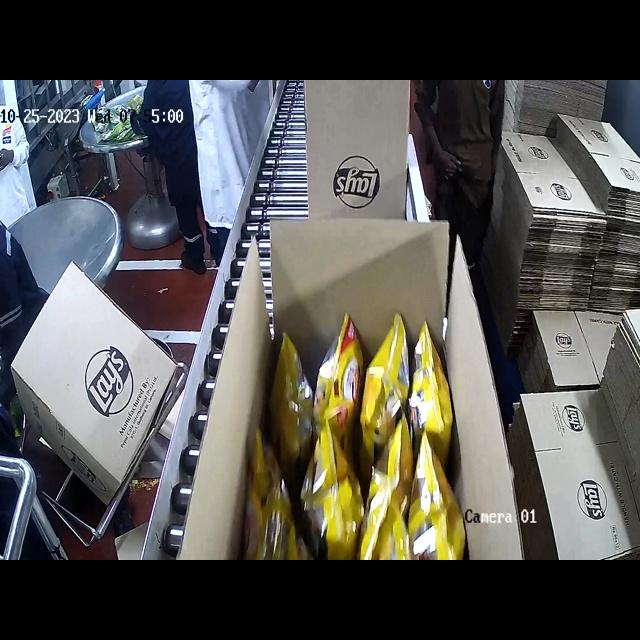salted: (275, 300, 459, 560)
